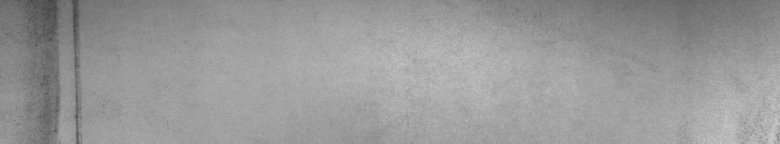ka: (30, 4, 84, 136)
